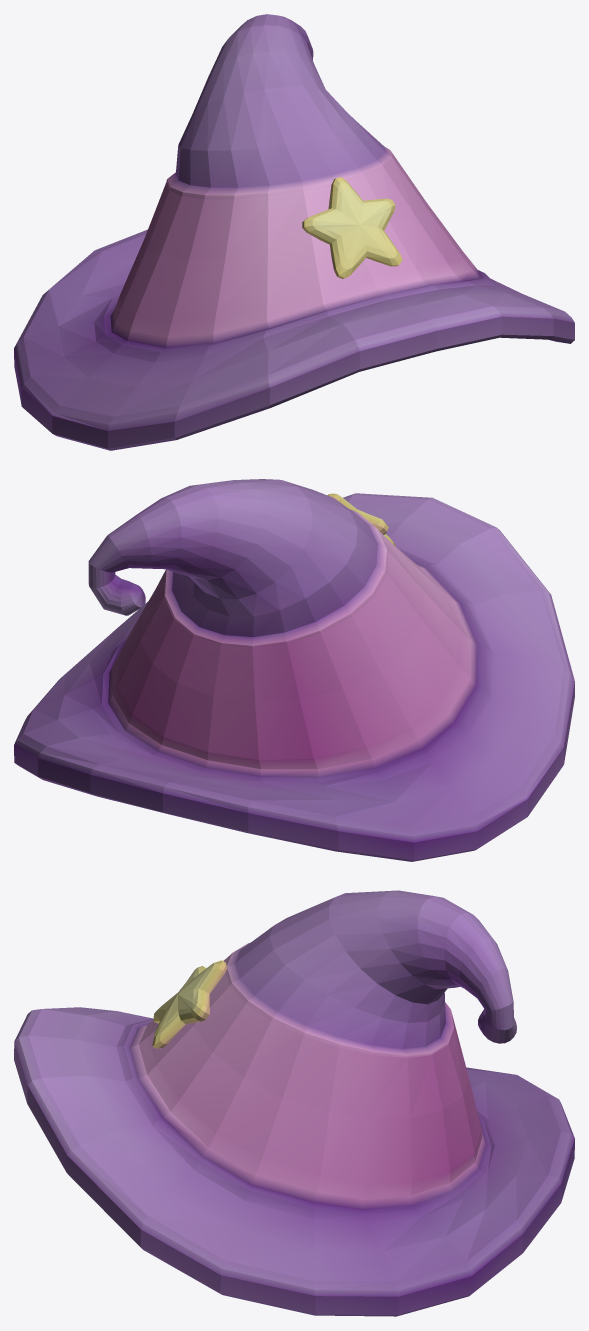
Rendered from WitchAngelaHat.glb.
3 views of the same model, one above another, from view 1: azimuth 30°, elevation 25°; view 2: azimuth 150°, elevation 25°; view 3: azimuth 270°, elevation 25° (orthographic). The views are drawn at different scales.
Parts seen in each view (by area): view 1: WitchAngelaHat; view 2: WitchAngelaHat; view 3: WitchAngelaHat.
Part boxes in pixels (x1=…): WitchAngelaHat: x1=14, y1=14, x2=574, y2=450; WitchAngelaHat: x1=14, y1=479, x2=574, y2=861; WitchAngelaHat: x1=14, y1=890, x2=574, y2=1316.
Bounding box in the file's own units: 0.6935 × 0.4386 × 0.6949.
